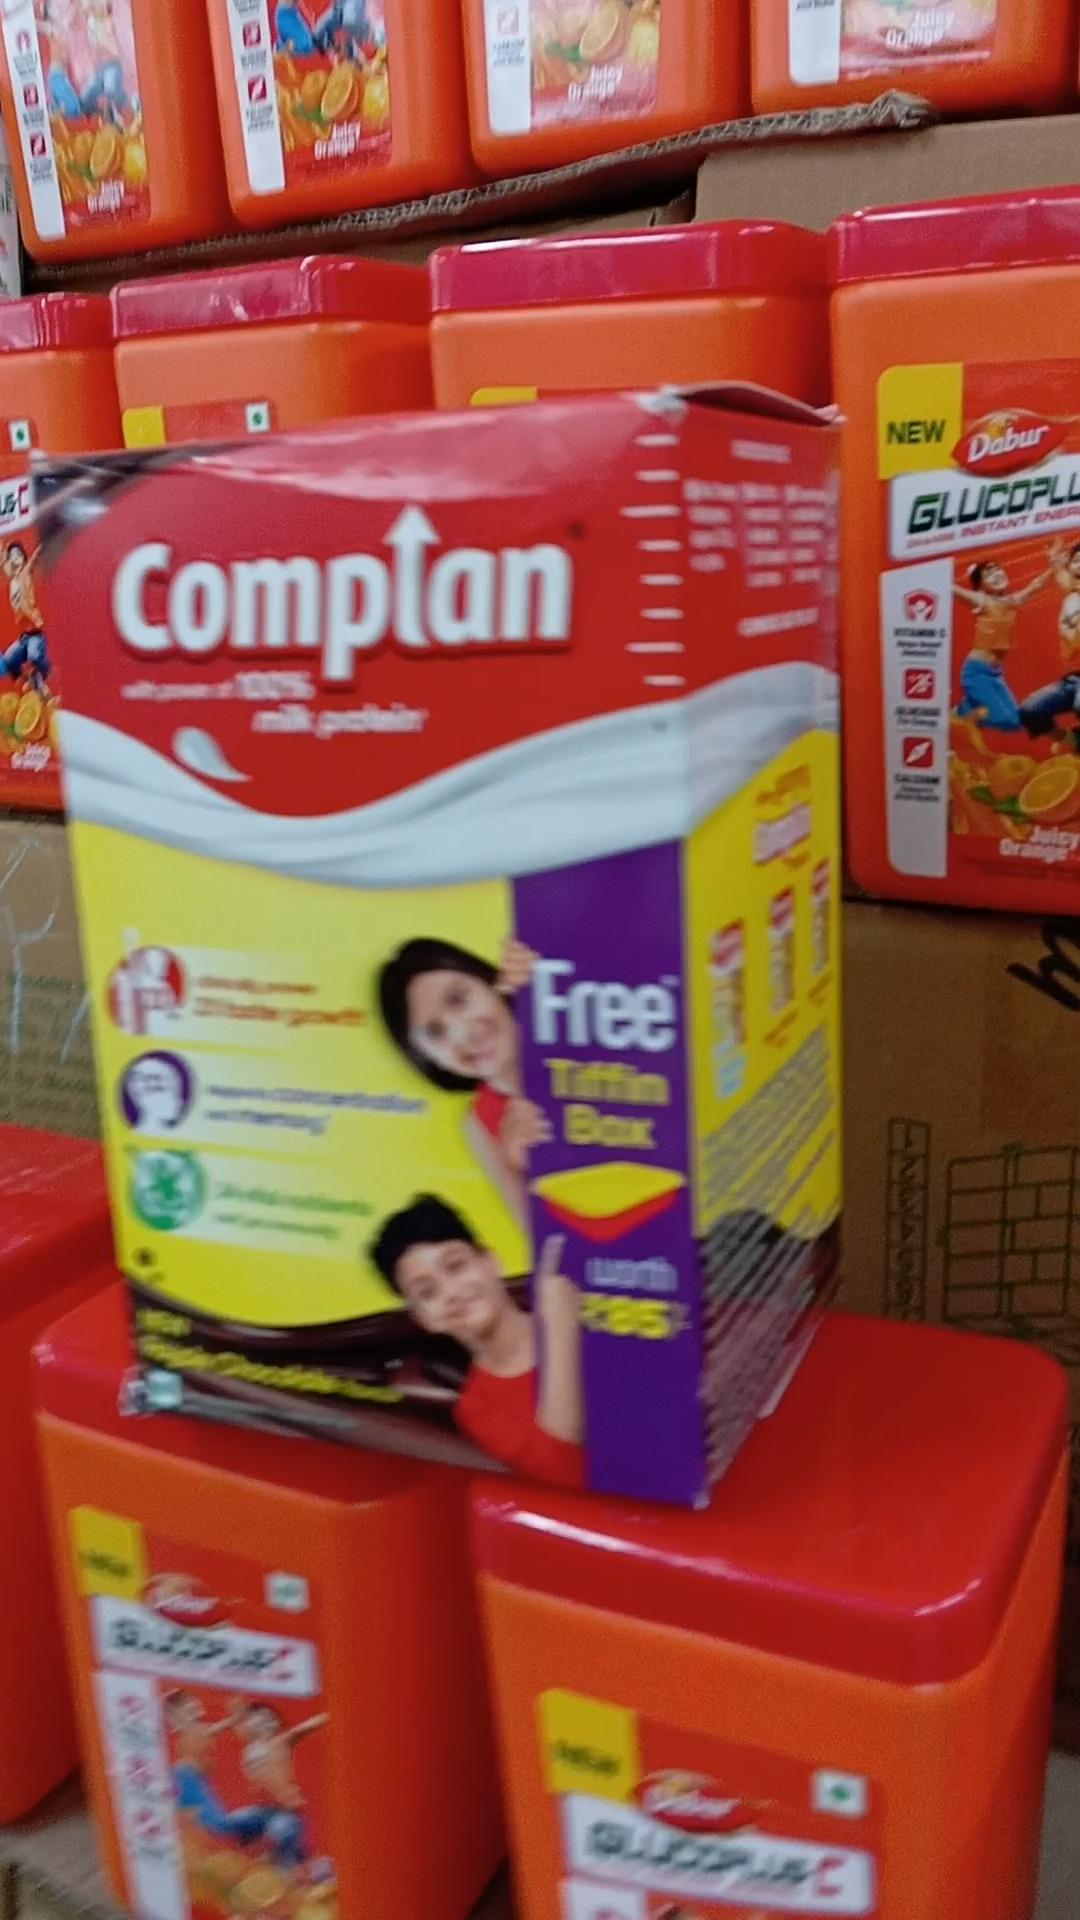COMPLAN_CHOCOLATE_500_GMS_PACK: (71, 435, 687, 1498)
